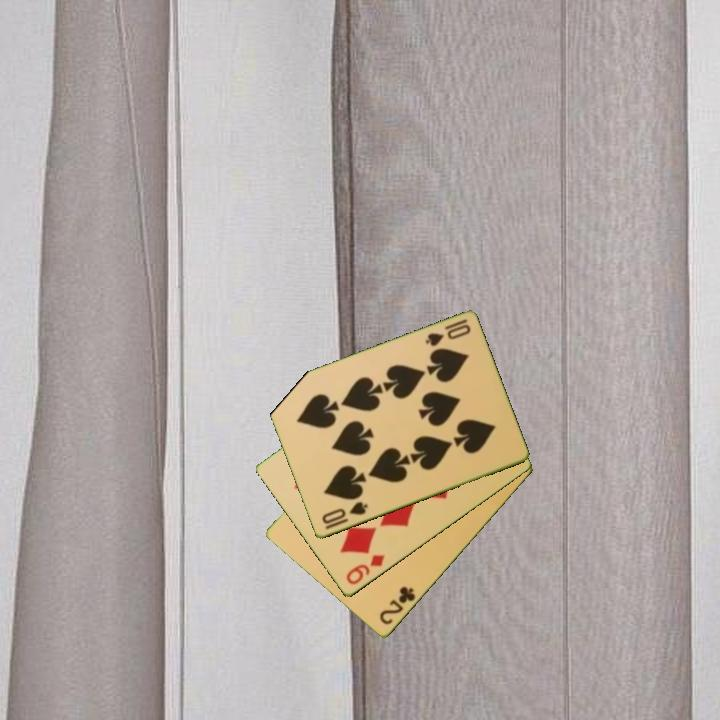10s: (421, 316, 474, 350), (318, 498, 371, 527)
2c: (376, 583, 418, 628)
9d: (342, 551, 388, 588)
